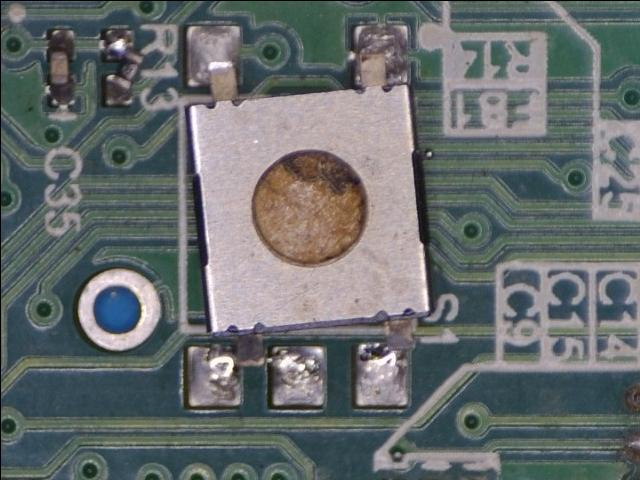Incorrect_installation: (184, 22, 434, 409), (101, 28, 146, 106)
Short_circuit: (184, 334, 328, 410)
